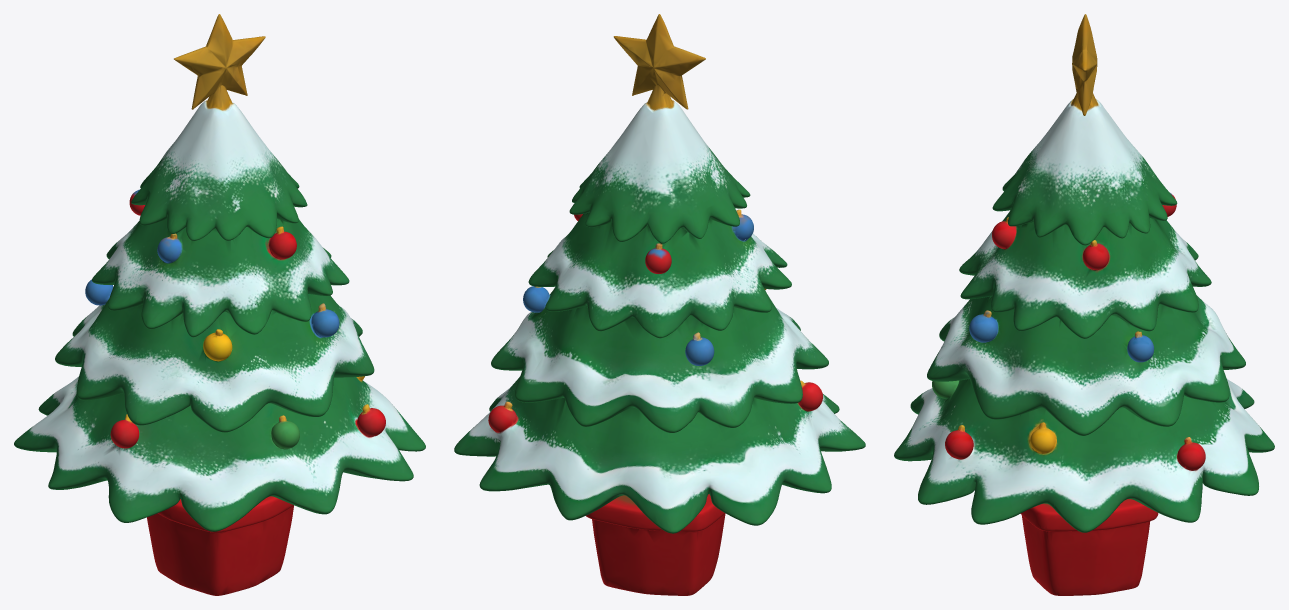
The model's file is vending-tree-web.glb.
The picture shows the model from 3 angles, left to right: view 1: azimuth 30°, elevation 25°; view 2: azimuth 150°, elevation 25°; view 3: azimuth 270°, elevation 25°; orthographic projection.
Parts seen in each view (by area): view 1: tripo_node_4cd27ebf-9c96-4983-988a-299d060afce2; view 2: tripo_node_4cd27ebf-9c96-4983-988a-299d060afce2; view 3: tripo_node_4cd27ebf-9c96-4983-988a-299d060afce2.
Boxes of the visible parts, box(x1,y1,x2,y2) form: tripo_node_4cd27ebf-9c96-4983-988a-299d060afce2: box(14, 14, 425, 595); tripo_node_4cd27ebf-9c96-4983-988a-299d060afce2: box(454, 14, 865, 595); tripo_node_4cd27ebf-9c96-4983-988a-299d060afce2: box(894, 14, 1274, 595).
Bounding box in the file's own units: 0.6221 × 0.9781 × 0.6033.
Materials: 1 (1 with a texture image).
